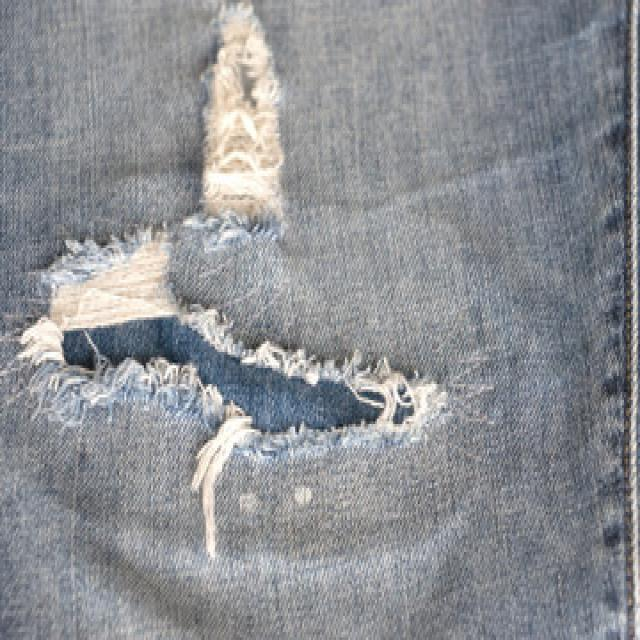Hole: (20, 231, 448, 480), (183, 0, 284, 251)
